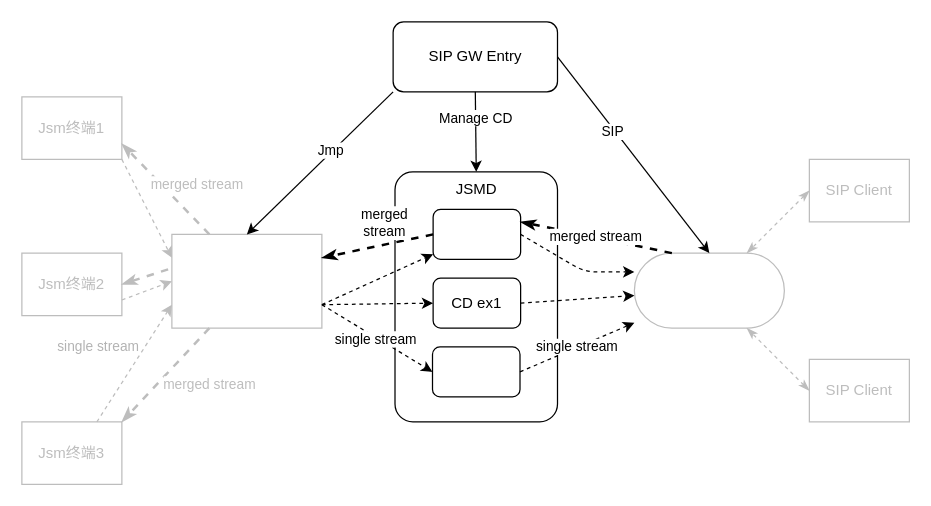
Image size: 931x506. Some labels were removed from this diagram. The centre of each missing label's shape, as x and y in pixels:
CD: point (476, 233)
CD ex2: point (475, 371)
Jsm会场服务: point (246, 280)
SIP Server MCU Server: point (708, 290)
